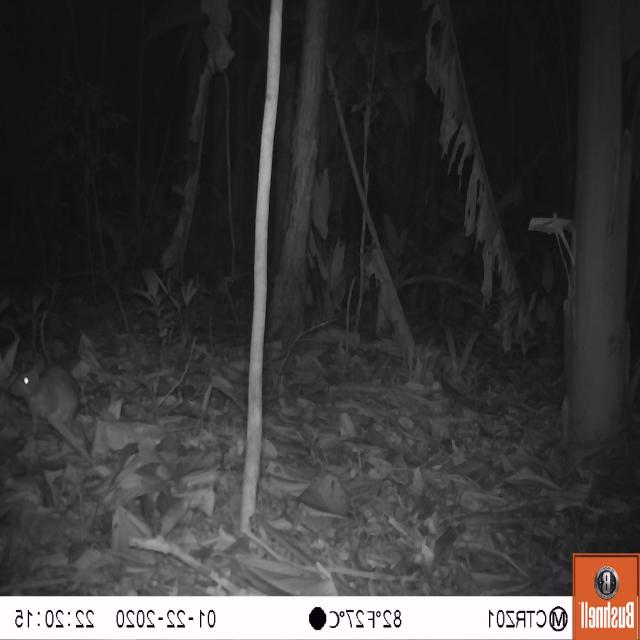Rodent: (0, 325, 111, 484)
